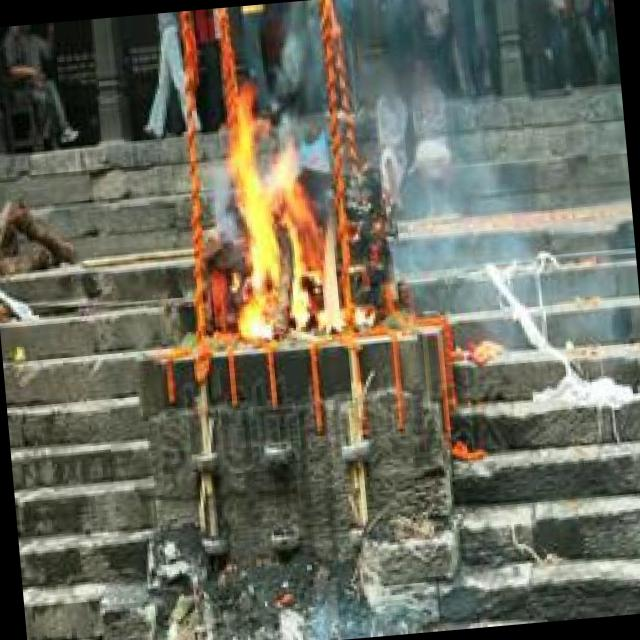Fire: (222, 81, 351, 342)
